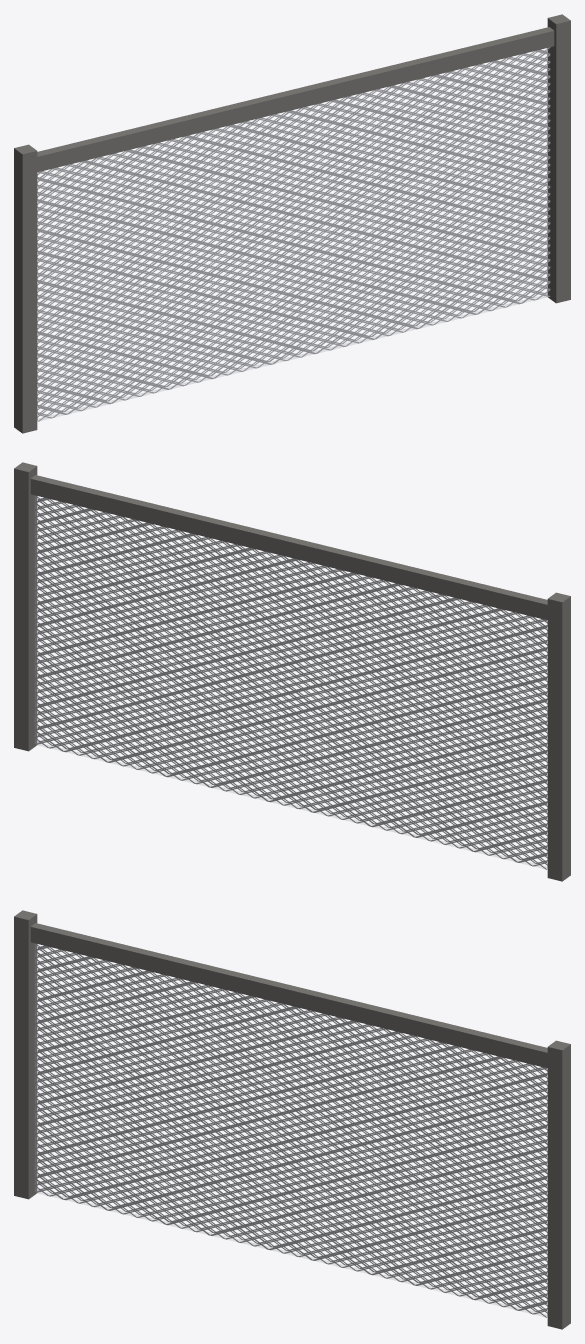
The model's file is fence_chain_short.glb.
3 views of the same model, one above another, from view 1: azimuth 30°, elevation 25°; view 2: azimuth 150°, elevation 25°; view 3: azimuth 330°, elevation 25° (orthographic).
Parts seen in each view (by area): view 1: chainmesh_389, chainrail-col_388, chainpost-col_386, chainpost-col_387; view 2: chainmesh_389, chainrail-col_388, chainpost-col_386, chainpost-col_387; view 3: chainmesh_389, chainrail-col_388, chainpost-col_387, chainpost-col_386.
Part boxes in pixels (box(x1,y1,x2,y2)): chainmesh_389: box(37, 47, 550, 421); chainrail-col_388: box(37, 27, 554, 172); chainpost-col_386: box(14, 144, 37, 433); chainpost-col_387: box(547, 14, 570, 303); chainmesh_389: box(34, 495, 547, 869); chainrail-col_388: box(30, 475, 547, 620); chainpost-col_386: box(547, 592, 570, 881); chainpost-col_387: box(14, 462, 37, 751); chainmesh_389: box(34, 943, 547, 1317); chainrail-col_388: box(30, 923, 547, 1068); chainpost-col_387: box(547, 1040, 570, 1329); chainpost-col_386: box(14, 910, 37, 1199).
Size of the model in its own units: 1.85 by 0.9 by 0.05.
Materials: 2 (1 with a texture image).
